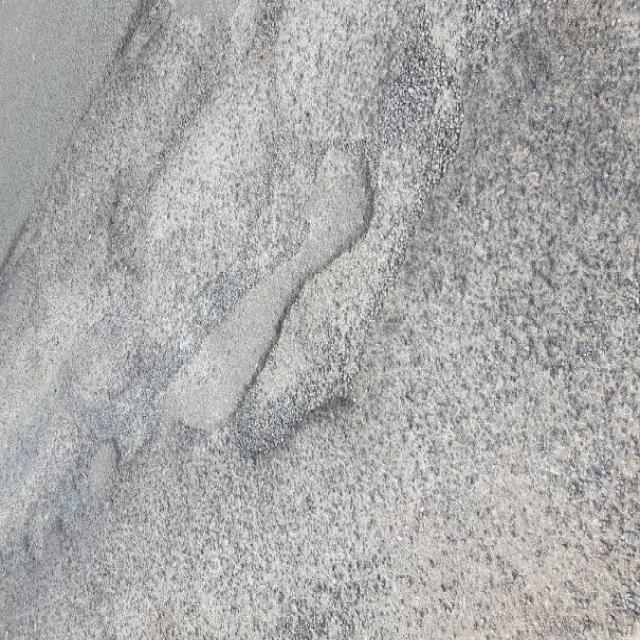pothole: (224, 121, 451, 467)
